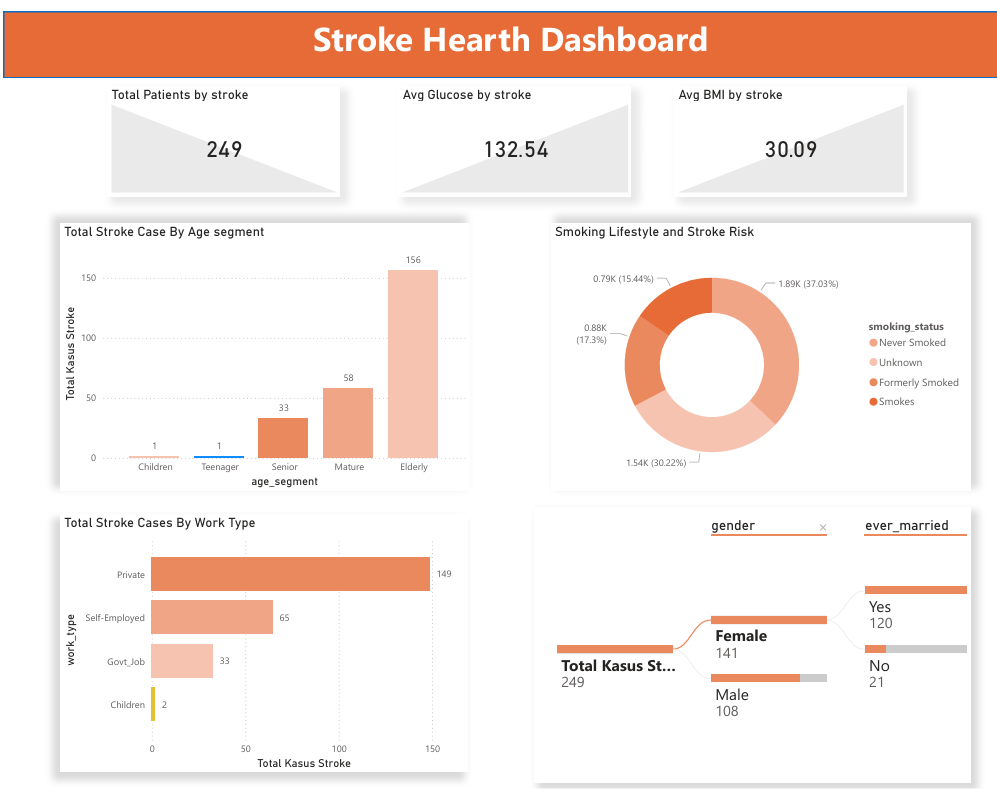

This screenshot's page, from the dashboard's own definition file:
{"tool":"powerbi","page":{"name":"Page 1","canvas":[1300,1000],"ordinal":0},"visuals":[{"type":"shape","box":[0,0,1300,85],"z":0},{"type":"textbox","box":[82.5,0,1140,67.5],"z":1000},{"type":"clusteredColumnChart","title":"Total Stroke Case By Age segment","fields":{"Category":["stroke_cleaning.age_segment"],"Y":["stroke_cleaning.Total Kasus Stroke"]},"box":[72.5,272.5,527.5,345],"z":2000},{"type":"donutChart","title":"Smoking Lifestyle and Stroke Risk","fields":{"Category":["stroke_cleaning.smoking_status"],"Y":["CountNonNull(stroke_cleaning.id)"]},"box":[705,272.5,540,345],"z":3000},{"type":"clusteredBarChart","title":"Total Stroke Cases By Work Type","fields":{"Category":["stroke_cleaning.work_type"],"Y":["stroke_cleaning.Total Kasus Stroke"]},"box":[72.5,647.5,525,332.5],"z":4000},{"type":"decompositionTreeVisual","fields":{"ExplainBy":["stroke_cleaning.gender","stroke_cleaning.ever_married"],"Analyze":["stroke_cleaning.Total Kasus Stroke"]},"box":[682.5,637.5,562.5,355],"z":5000},{"type":"kpi","fields":{"Indicator":["stroke_cleaning.Total Patients"],"TrendLine":["stroke_cleaning.stroke"]},"box":[134.2,95.8,300,142.5],"z":6000},{"type":"kpi","fields":{"Indicator":["stroke_cleaning.Avg Glucose"],"TrendLine":["stroke_cleaning.stroke"]},"box":[509.2,95.8,300,142.5],"z":7000},{"type":"kpi","fields":{"TrendLine":["stroke_cleaning.stroke"],"Indicator":["stroke_cleaning.Avg BMI"]},"box":[864.2,95.8,300,142.5],"z":8000}]}

Visuals, with their boxes in screenshot pixels (x1, y1, x2, y2):
shape: region(0, 8, 996, 74)
textbox: region(62, 8, 956, 61)
"Total Stroke Case By Age segment" clusteredColumnChart: region(54, 221, 468, 492)
"Smoking Lifestyle and Stroke Risk" donutChart: region(550, 221, 974, 492)
"Total Stroke Cases By Work Type" clusteredBarChart: region(54, 516, 466, 776)
decompositionTreeVisual - stroke_cleaning.gender x stroke_cleaning.ever_married: region(533, 508, 974, 786)
kpi - stroke_cleaning.Total Patients x stroke_cleaning.stroke: region(103, 83, 338, 195)
kpi - stroke_cleaning.Avg Glucose x stroke_cleaning.stroke: region(397, 83, 632, 195)
kpi - stroke_cleaning.stroke x stroke_cleaning.Avg BMI: region(675, 83, 910, 195)
